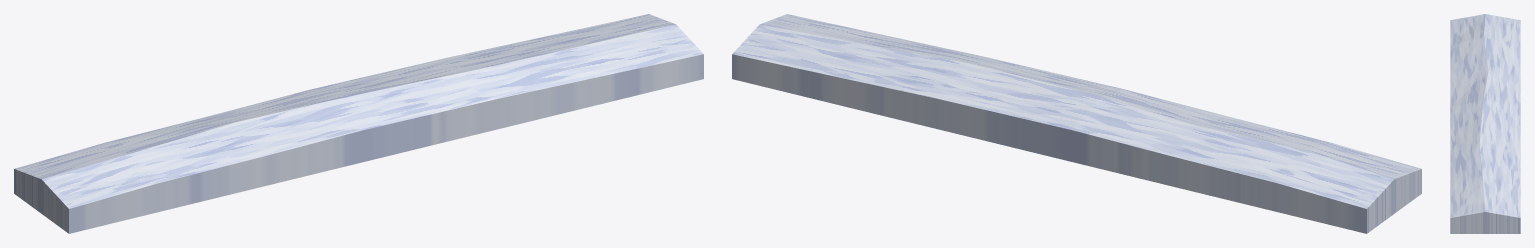
File: snow_roof_edge.glb
3 views of the same model, side by side, from view 1: azimuth 30°, elevation 25°; view 2: azimuth 150°, elevation 25°; view 3: azimuth 270°, elevation 25° (orthographic). The views are drawn at different scales.
Visible parts, largest first — view 1: winter_snow_roof_edge; view 2: winter_snow_roof_edge; view 3: winter_snow_roof_edge.
Part boxes in pixels (x1,y1,x2,y2): winter_snow_roof_edge: (14, 14, 703, 233); winter_snow_roof_edge: (732, 14, 1421, 233); winter_snow_roof_edge: (1450, 14, 1520, 233).
Size of the model in its own units: 2.4 by 0.16 by 0.36.
Materials: 1 (1 with a texture image).
